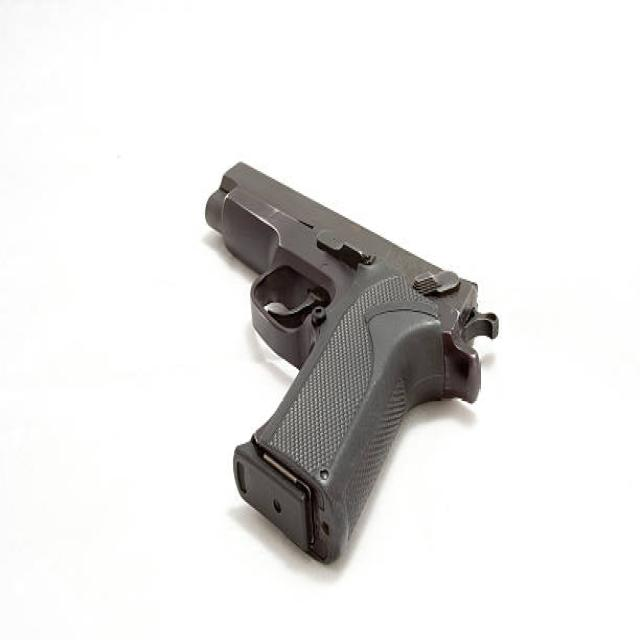pistol: (199, 157, 504, 570)
